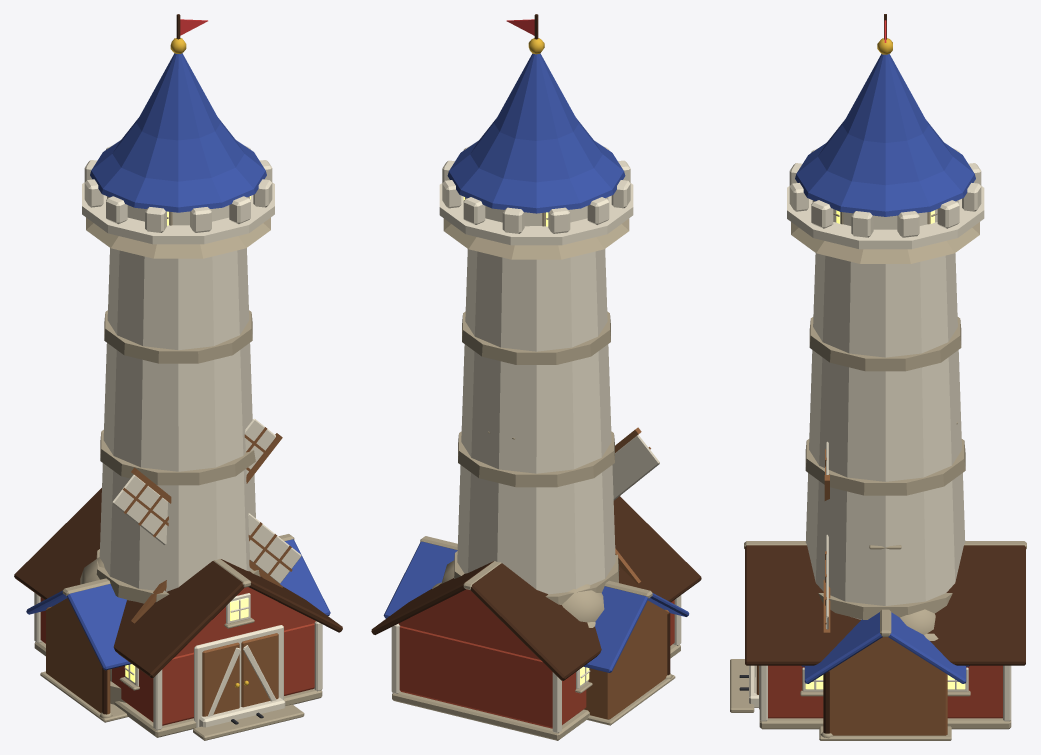
Rendered from nature_kit_v1.glb.
3 renders of one model, left to right at view 1: azimuth 30°, elevation 25°; view 2: azimuth 150°, elevation 25°; view 3: azimuth 270°, elevation 25°, orthographic. The views are drawn at different scales.
Parts seen in each view (by area): view 1: endless_tower, barn, stable, windmill_blades_mesh; view 2: endless_tower, barn, stable, windmill_blades_mesh, mine_entrance; view 3: endless_tower, barn, stable, windmill_blades_mesh, mine_entrance.
Part boxes in pixels (x1,y1,x2,y2): endless_tower: (82,14,304,740); barn: (14,488,342,737); stable: (26,534,330,722); windmill_blades_mesh: (112,418,301,623); endless_tower: (439,14,633,604); barn: (371,496,701,740); stable: (383,536,689,725); windmill_blades_mesh: (612,427,659,583); mine_entrance: (432,560,604,627); endless_tower: (730,14,984,712); barn: (744,541,1026,729); stable: (804,609,966,740); windmill_blades_mesh: (823,441,830,633); mine_entrance: (739,609,938,690).
Size of the model in its own units: 9.96 by 28.9 by 10.98.
